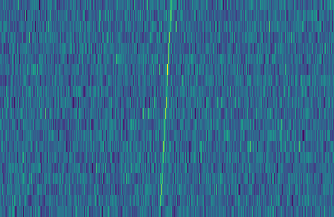signal: (154, 0, 175, 217)
